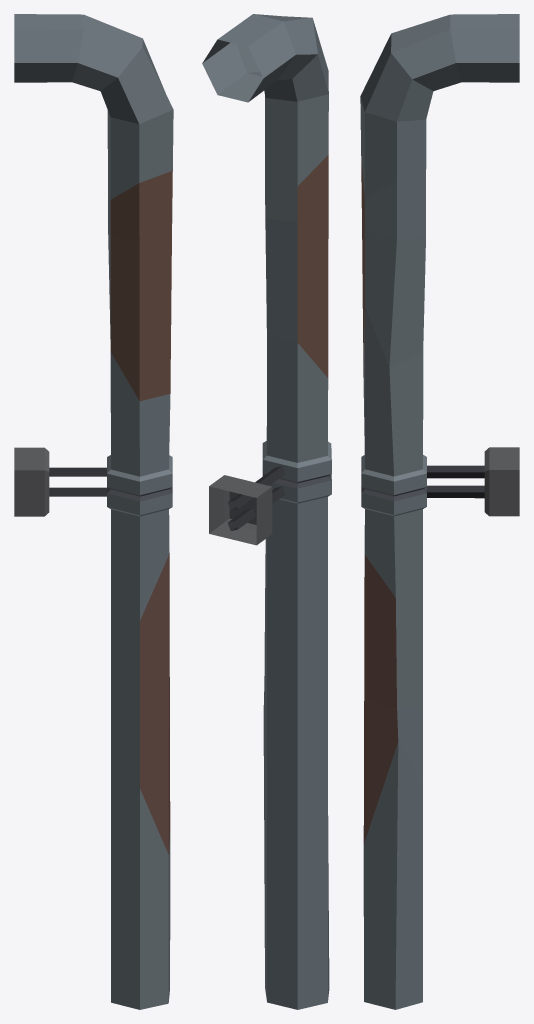
Rendered from SM_Rainwater_Pipe_Top.fbx.
3 renders of one model, left to right at view 1: azimuth 90°, elevation 25°; view 2: azimuth 150°, elevation 25°; view 3: azimuth 270°, elevation 25°, orthographic. The views are drawn at different scales.
Visible parts, largest first — view 1: SM_Rainwater_Pipe_Top; view 2: SM_Rainwater_Pipe_Top; view 3: SM_Rainwater_Pipe_Top.
Boxes of the visible parts, bbox=[...] form: SM_Rainwater_Pipe_Top: bbox=[14, 14, 173, 1009]; SM_Rainwater_Pipe_Top: bbox=[202, 14, 331, 1009]; SM_Rainwater_Pipe_Top: bbox=[360, 14, 519, 1009].
Bounding box in the file's own units: 25.76 × 355 × 52.58.
